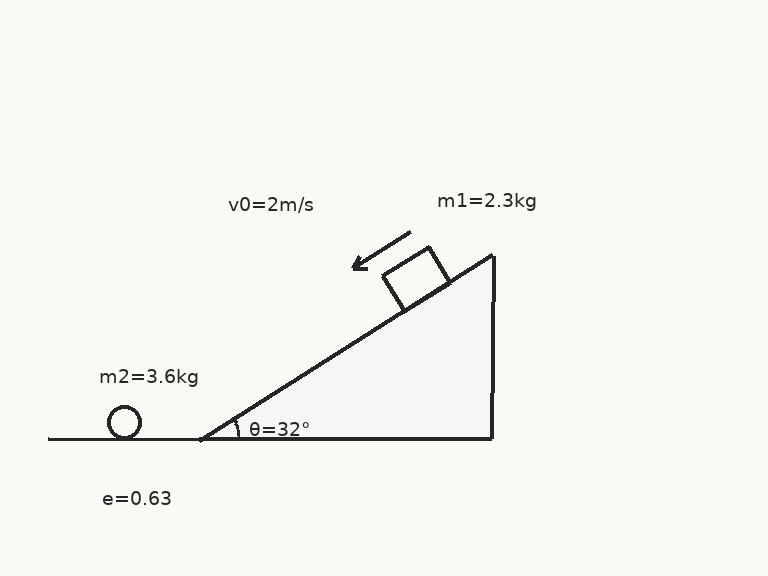ball: (105, 403, 143, 441)
block: (380, 245, 453, 313)
ramp: (197, 254, 494, 441)
